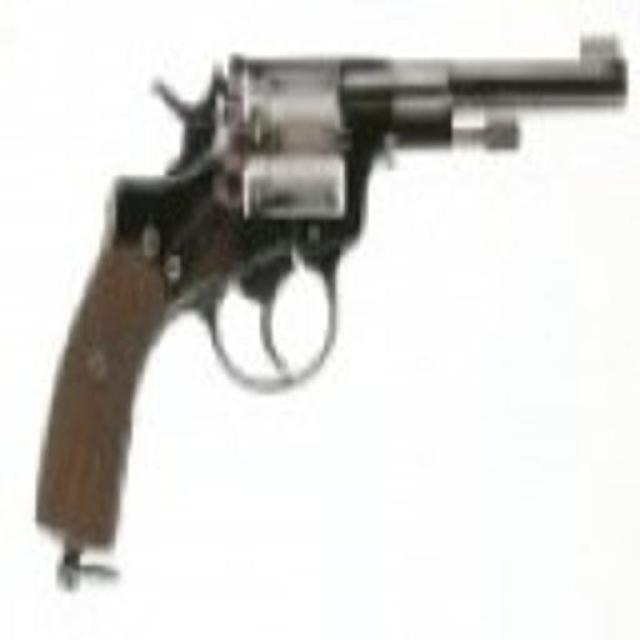pistol: (31, 26, 615, 548)
